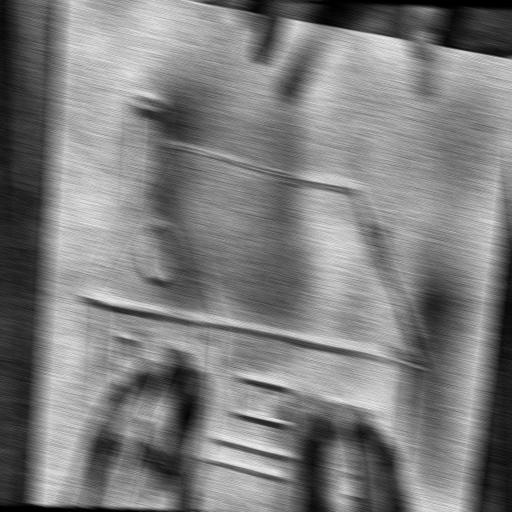house: (26, 66, 480, 512)
